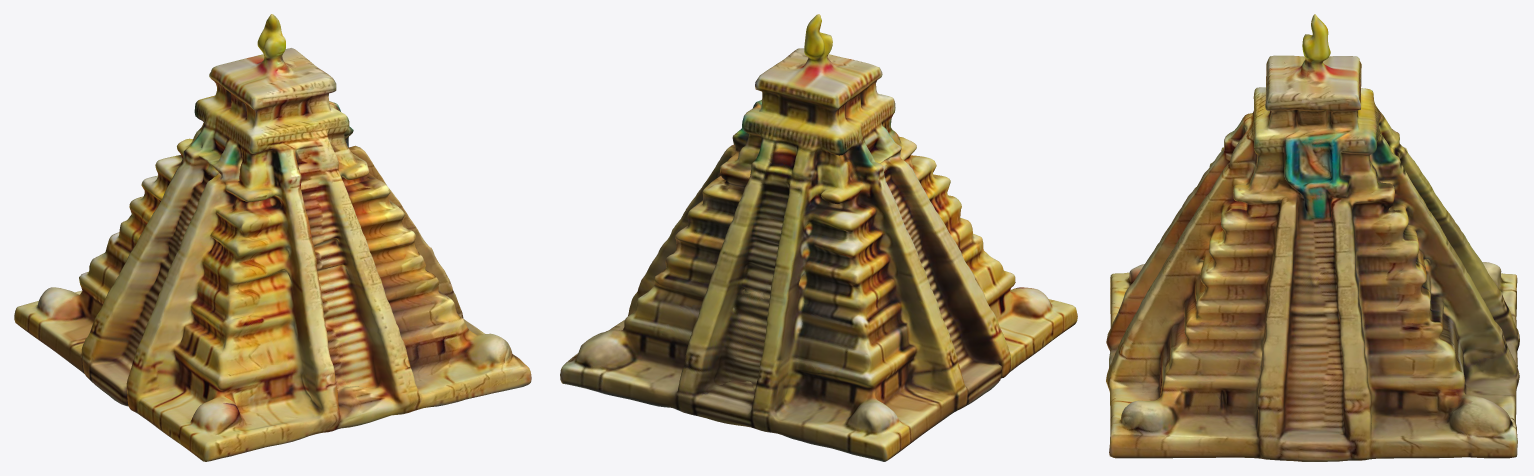
File: temple.glb
The picture shows the model from 3 angles, left to right: view 1: azimuth 30°, elevation 25°; view 2: azimuth 150°, elevation 25°; view 3: azimuth 270°, elevation 25°; orthographic projection. The views are drawn at different scales.
Parts seen in each view (by area): view 1: tripo_node_e7978fbc-e134-43a2-9061-a230d50519a7; view 2: tripo_node_e7978fbc-e134-43a2-9061-a230d50519a7; view 3: tripo_node_e7978fbc-e134-43a2-9061-a230d50519a7.
Boxes of the visible parts, left/top/right/bottom form: tripo_node_e7978fbc-e134-43a2-9061-a230d50519a7: left=14, top=14, right=531, bottom=461; tripo_node_e7978fbc-e134-43a2-9061-a230d50519a7: left=560, top=14, right=1077, bottom=461; tripo_node_e7978fbc-e134-43a2-9061-a230d50519a7: left=1106, top=14, right=1519, bottom=461.
Size of the model in its own units: 0.5934 by 0.5754 by 0.5974.
Materials: 1 (1 with a texture image).
